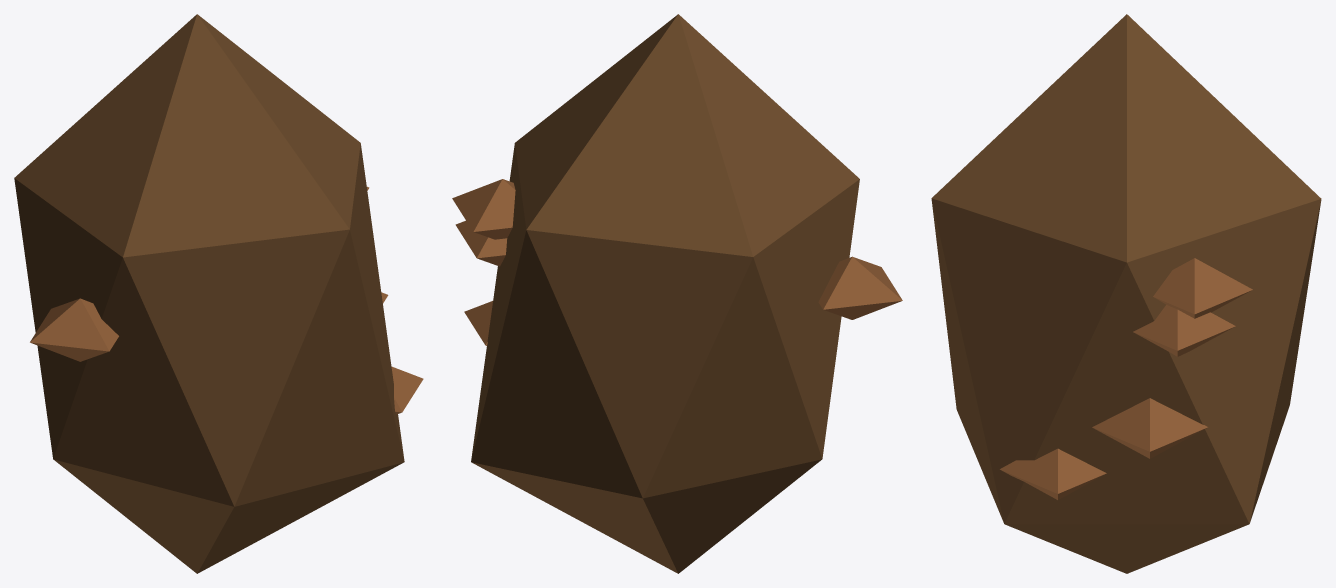
The model's file is HS_LP_Ground_Pinecone_02.fbx.
3 views of the same model, side by side, from view 1: azimuth 30°, elevation 25°; view 2: azimuth 150°, elevation 25°; view 3: azimuth 270°, elevation 25° (orthographic).
Visible parts, largest first — view 1: HS_LP_Ground_Pinecone_02; view 2: HS_LP_Ground_Pinecone_02; view 3: HS_LP_Ground_Pinecone_02.
Boxes of the visible parts, x1,y1,x2,y2 form: HS_LP_Ground_Pinecone_02: (14,14,423,573); HS_LP_Ground_Pinecone_02: (452,14,902,573); HS_LP_Ground_Pinecone_02: (931,14,1321,573).
Size of the model in its own units: 14.5 by 19.46 by 12.28.
